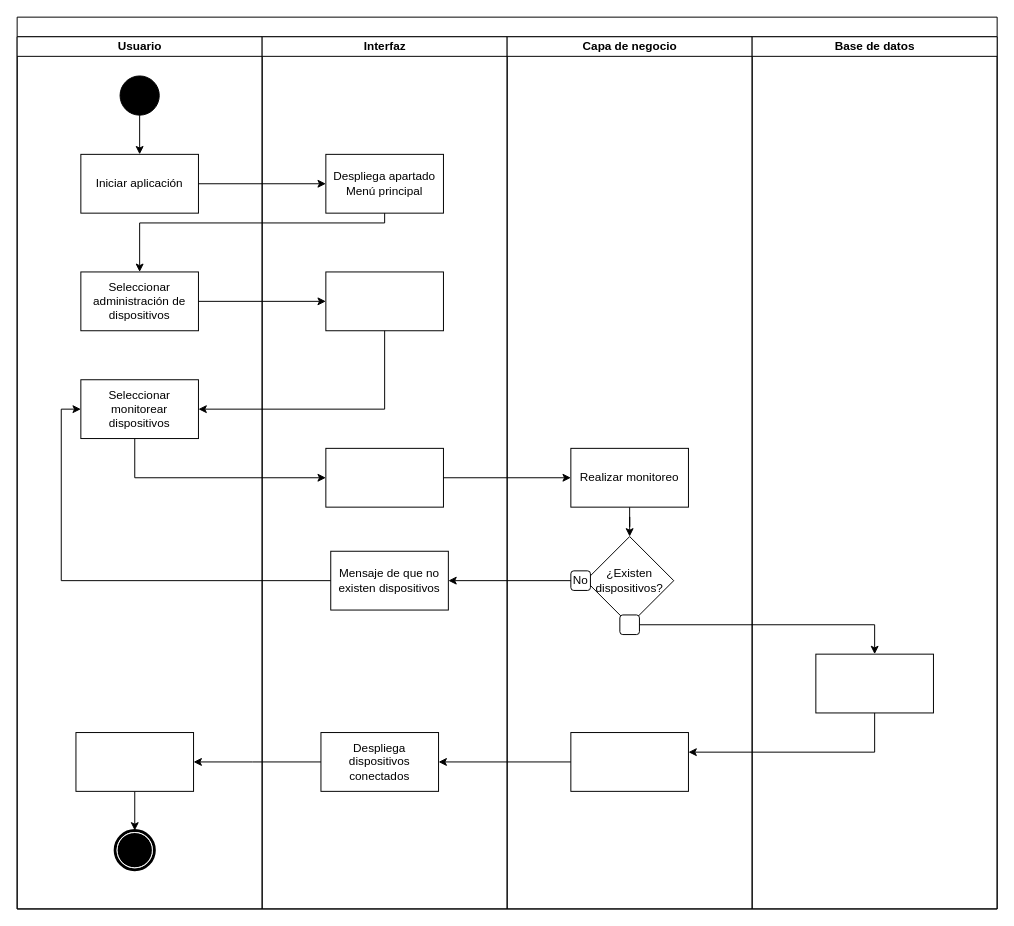
Some shapes in this 1014 by 926 pixel diagram are drawn without their labels. The centre of each missing label's shape, as x and y in pixels:
"Botón iniciar monitoreo" goes at point (384, 477).
"Busca dispositivos" goes at point (874, 683).
"Captura los datos" goes at point (629, 761).
"Interfaz administración de dispositivos" goes at point (384, 301).
"Si" goes at point (629, 624).
"Visualiza los dispositivos conectados" goes at point (134, 761).
